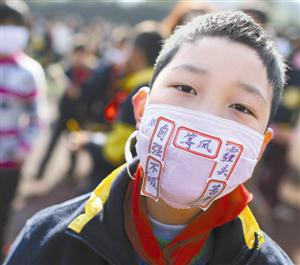OK: (142, 63, 279, 200)
